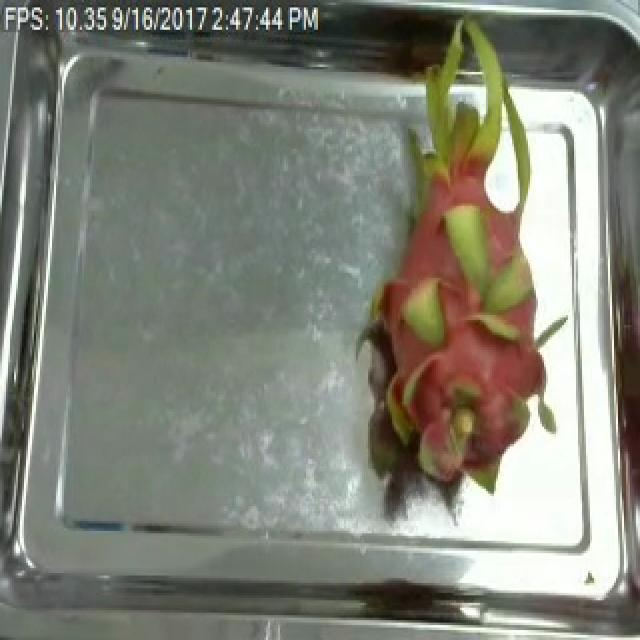fruit: (336, 42, 588, 484)
